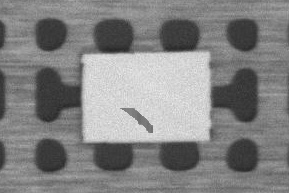DIE_INK: (119, 105, 153, 133)
